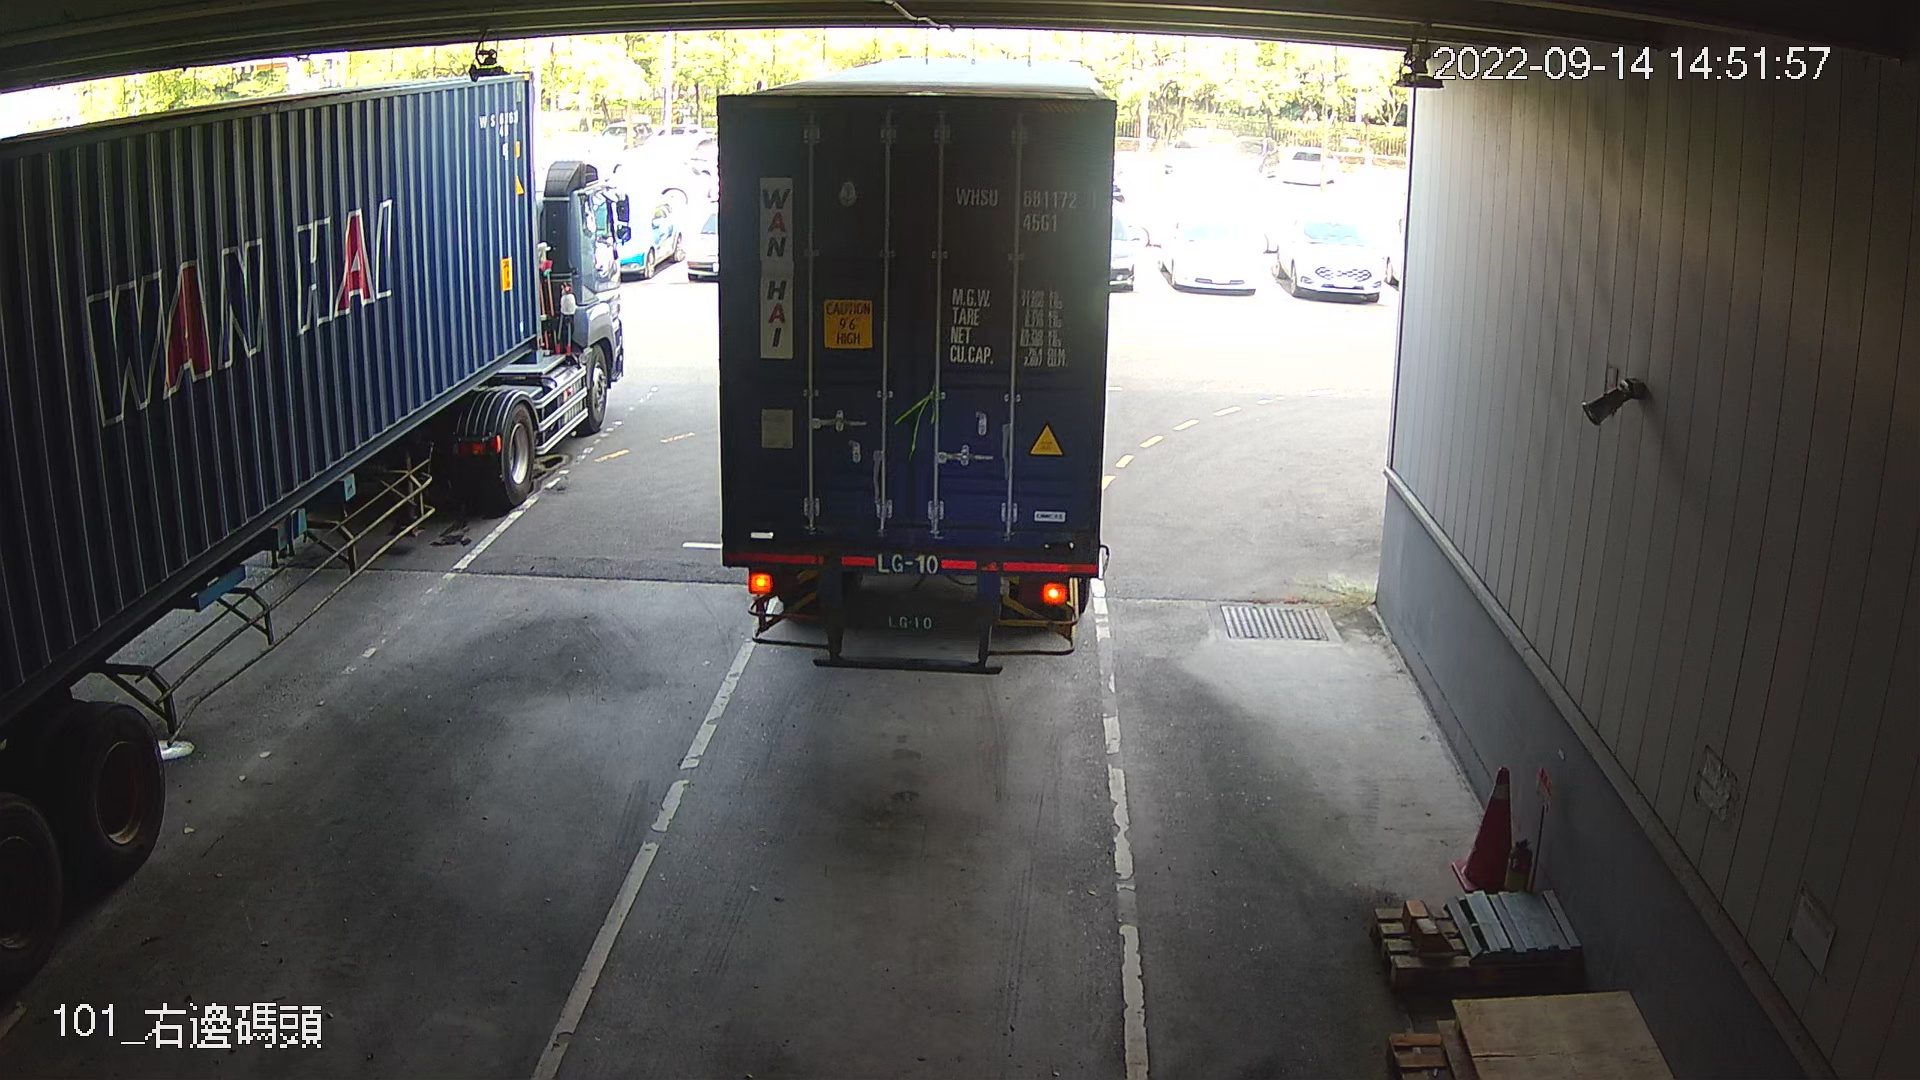container: (947, 179, 1106, 239)
